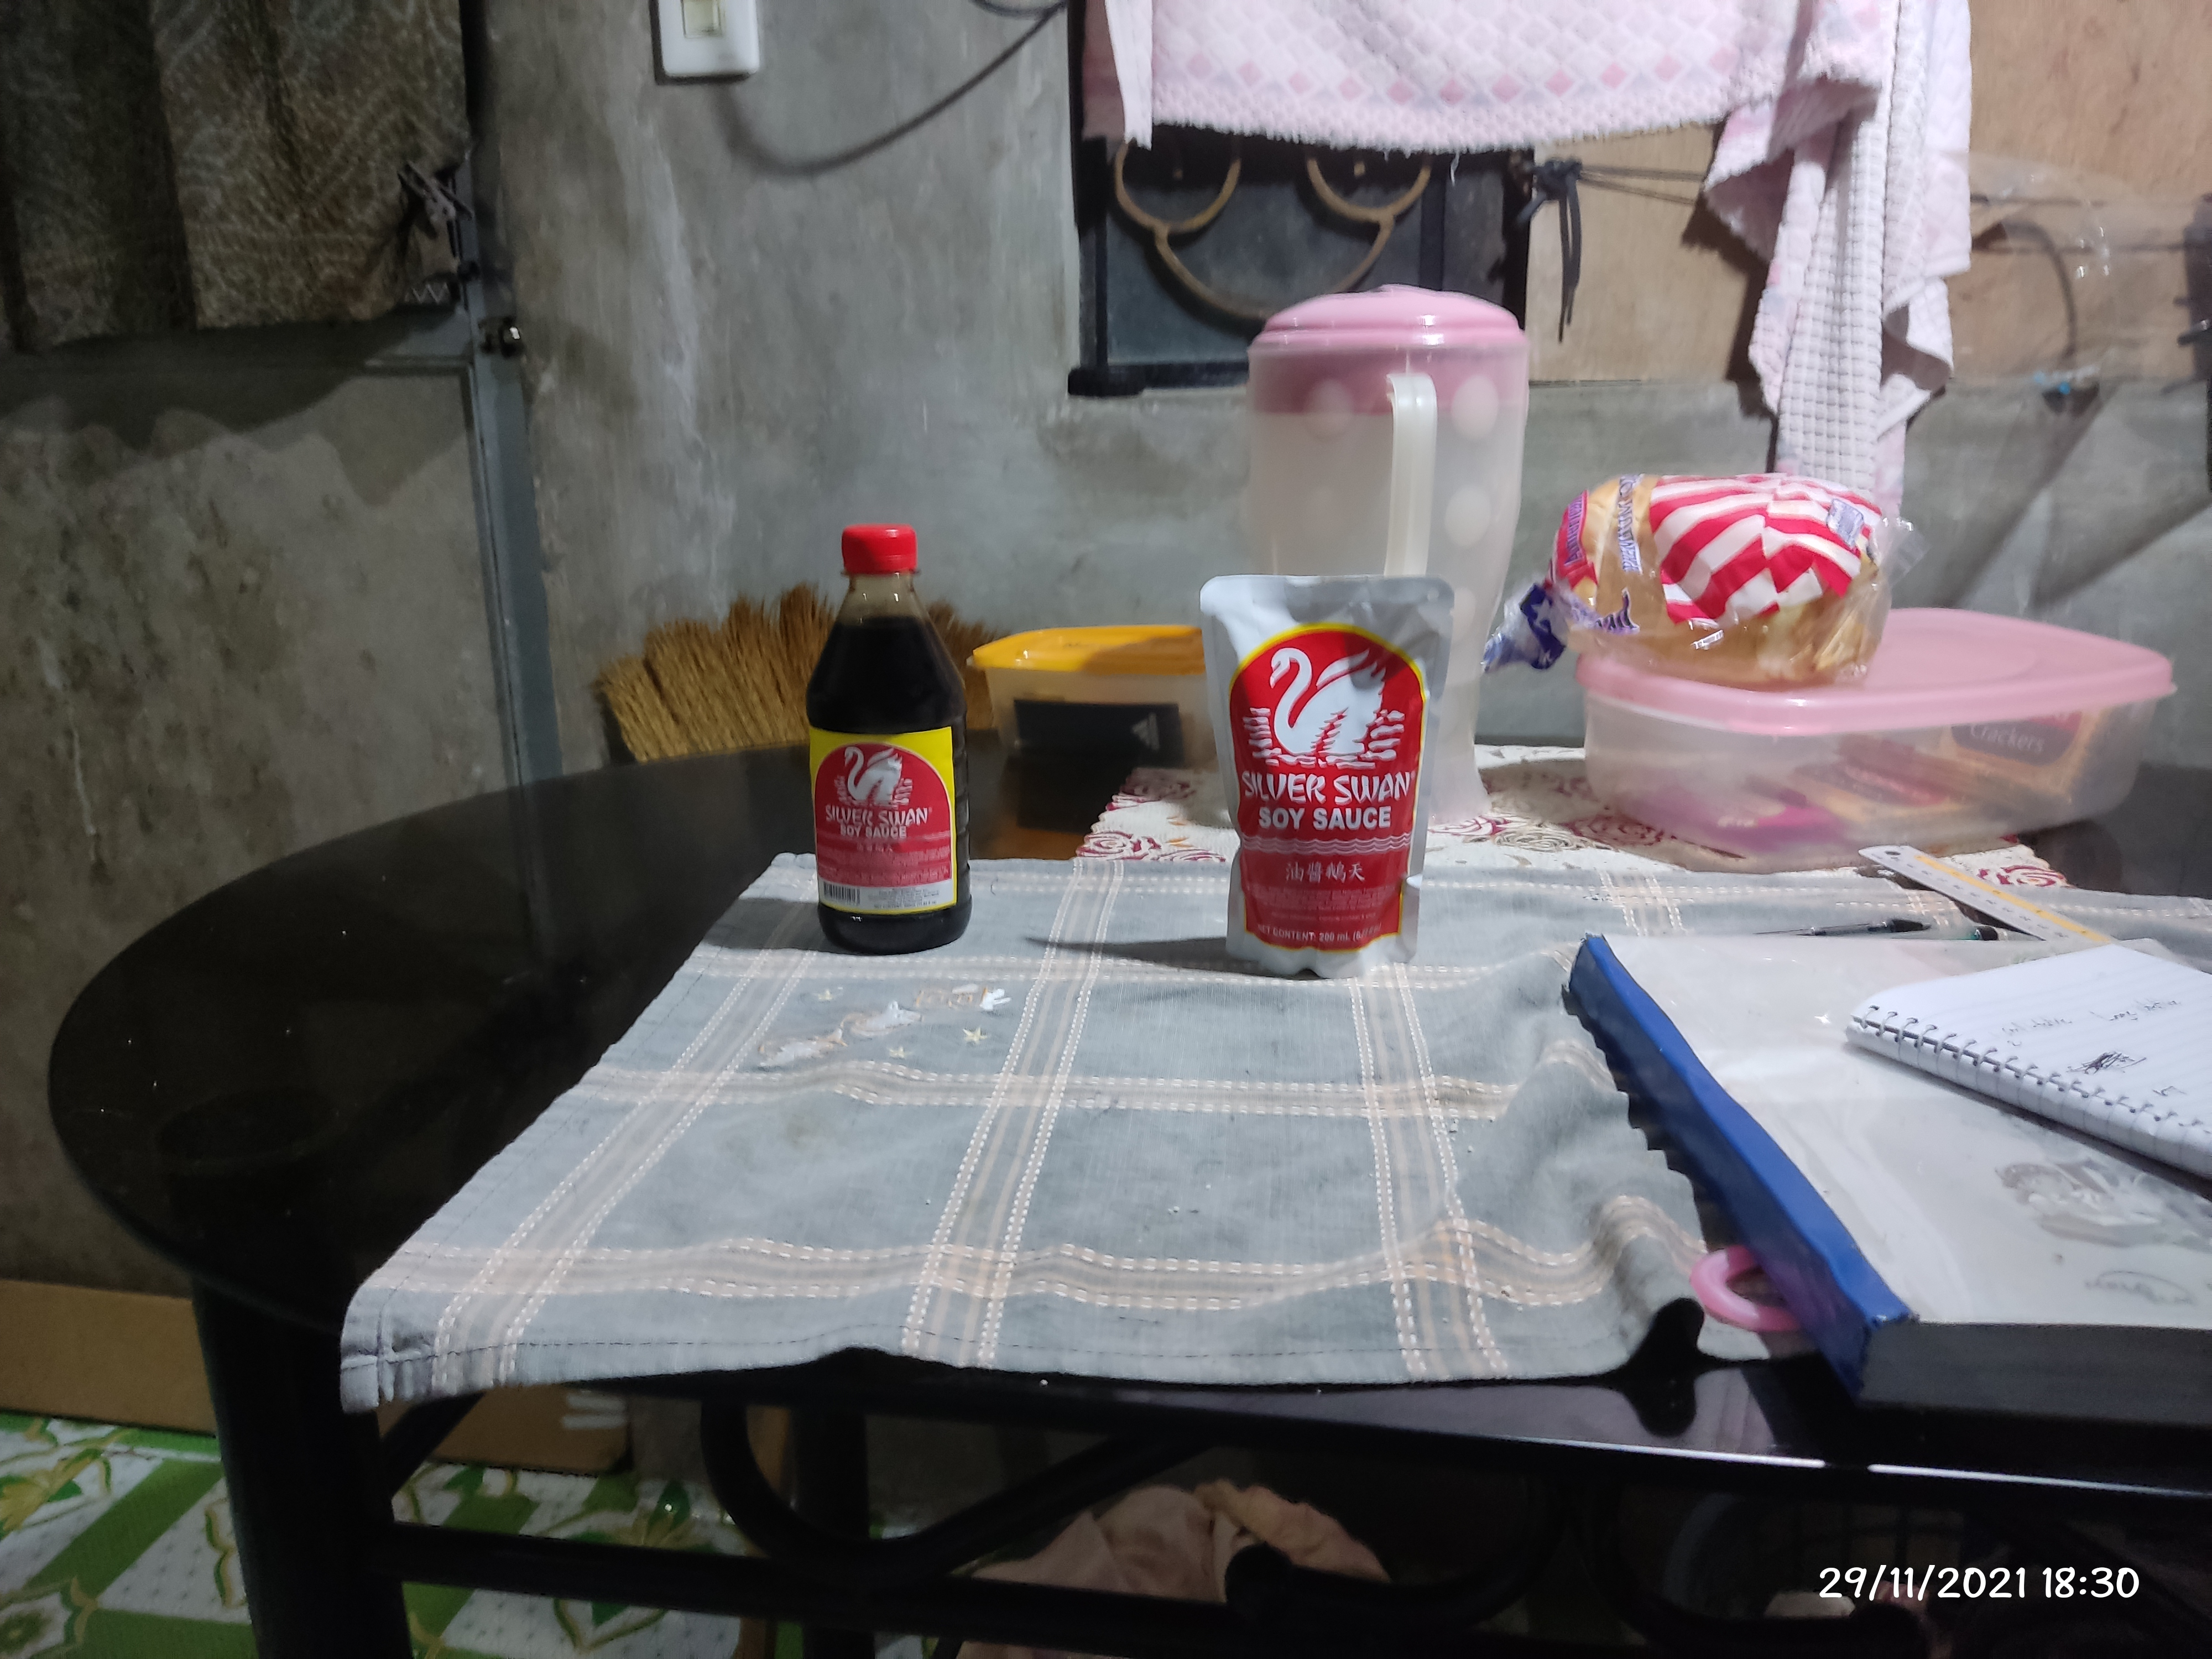soy_sauce: (1195, 573, 1435, 983), (796, 516, 984, 953)
